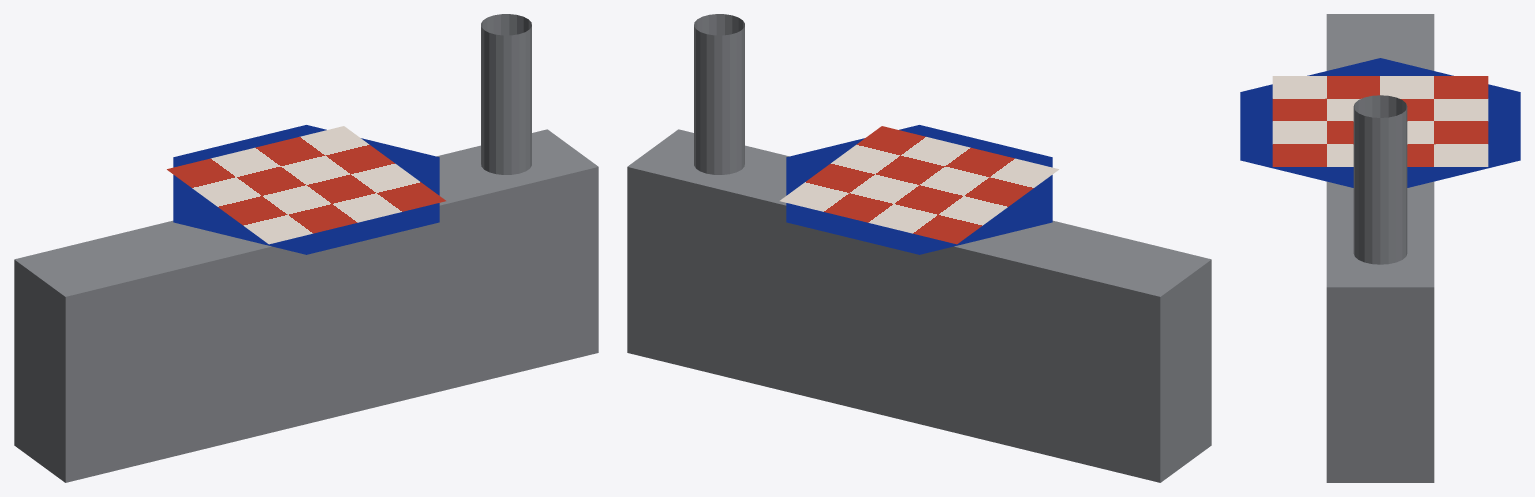
Rendered from test_mesh_parts.obj.
3 renders of one model, left to right at view 1: azimuth 30°, elevation 25°; view 2: azimuth 150°, elevation 25°; view 3: azimuth 270°, elevation 25°, orthographic. The views are drawn at different scales.
Visible parts, largest first — view 1: Frame, Cover, Pipe; view 2: Frame, Cover, Pipe; view 3: Frame, Cover, Pipe.
Part boxes in pixels (x1=…): Frame: x1=14, y1=129, x2=598, y2=482; Cover: x1=167, y1=125, x2=445, y2=254; Pipe: x1=481, y1=14, x2=531, y2=174; Frame: x1=627, y1=129, x2=1211, y2=482; Cover: x1=780, y1=125, x2=1058, y2=254; Pipe: x1=694, y1=14, x2=744, y2=174; Frame: x1=1326, y1=14, x2=1434, y2=482; Cover: x1=1240, y1=58, x2=1520, y2=187; Pipe: x1=1353, y1=95, x2=1407, y2=264.
Size of the model in its own units: 1200 by 700 by 520.
3 materials, 1 textured.
